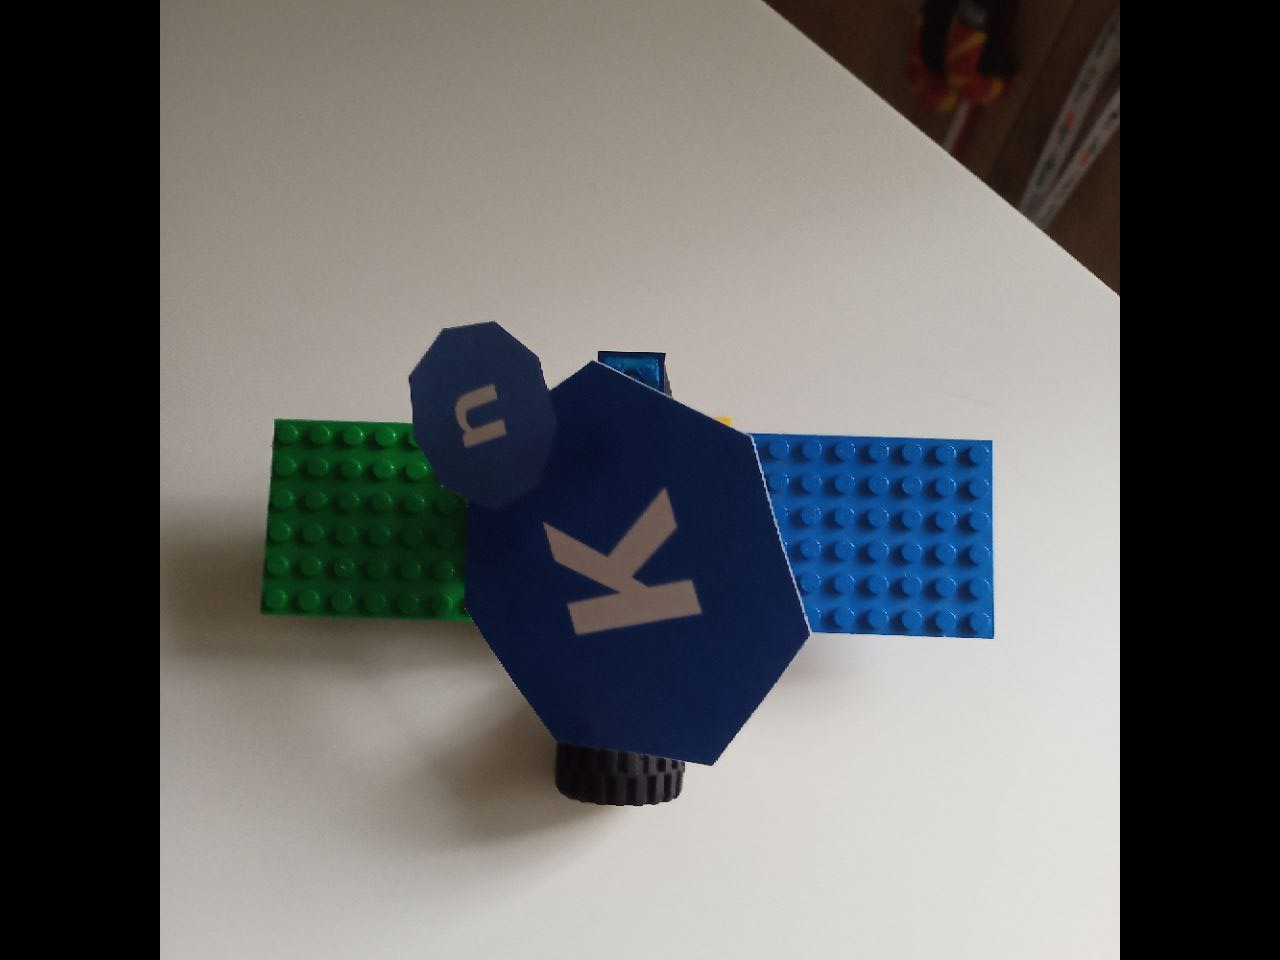knative: (408, 317, 811, 766)
